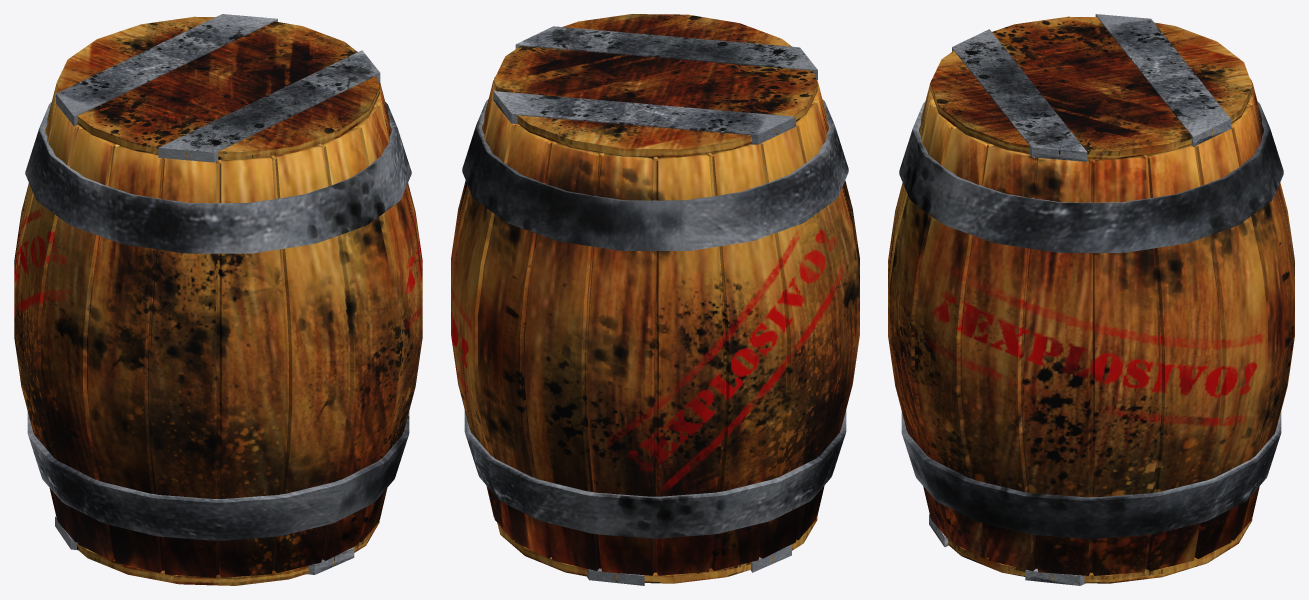
File: Barrel.FBX
3 renders of one model, left to right at view 1: azimuth 30°, elevation 25°; view 2: azimuth 150°, elevation 25°; view 3: azimuth 270°, elevation 25°, orthographic.
Visible parts, largest first — view 1: Barrel_Base, lid2, BraceT, BraceB, Lid2_Brace, lid003, Lid2_Brace001; view 2: Barrel_Base, lid2, BraceT, BraceB, Lid2_Brace, lid003, Lid2_Brace001; view 3: Barrel_Base, lid2, BraceT, BraceB, Lid2_Brace, lid003, Lid2_Brace001.
Boxes of the visible parts, x1=… form: Barrel_Base: x1=14, y1=83, x2=422, y2=577; lid2: x1=56, y1=16, x2=379, y2=159; BraceT: x1=25, y1=102, x2=411, y2=253; BraceB: x1=27, y1=411, x2=409, y2=540; Lid2_Brace: x1=56, y1=14, x2=380, y2=162; lid003: x1=77, y1=520, x2=379, y2=585; Lid2_Brace001: x1=55, y1=516, x2=354, y2=574; Barrel_Base: x1=451, y1=76, x2=859, y2=575; lid2: x1=494, y1=14, x2=817, y2=157; BraceT: x1=462, y1=99, x2=848, y2=250; BraceB: x1=464, y1=410, x2=846, y2=538; Lid2_Brace: x1=493, y1=26, x2=817, y2=144; lid003: x1=497, y1=517, x2=817, y2=583; Lid2_Brace001: x1=587, y1=544, x2=791, y2=585; Barrel_Base: x1=888, y1=78, x2=1294, y2=575; lid2: x1=930, y1=16, x2=1252, y2=159; BraceT: x1=899, y1=102, x2=1283, y2=252; BraceB: x1=901, y1=411, x2=1281, y2=538; Lid2_Brace: x1=952, y1=14, x2=1230, y2=161; lid003: x1=936, y1=518, x2=1252, y2=583; Lid2_Brace001: x1=929, y1=514, x2=1085, y2=585.
Bounding box in the file's own units: 192 × 224 × 190.
